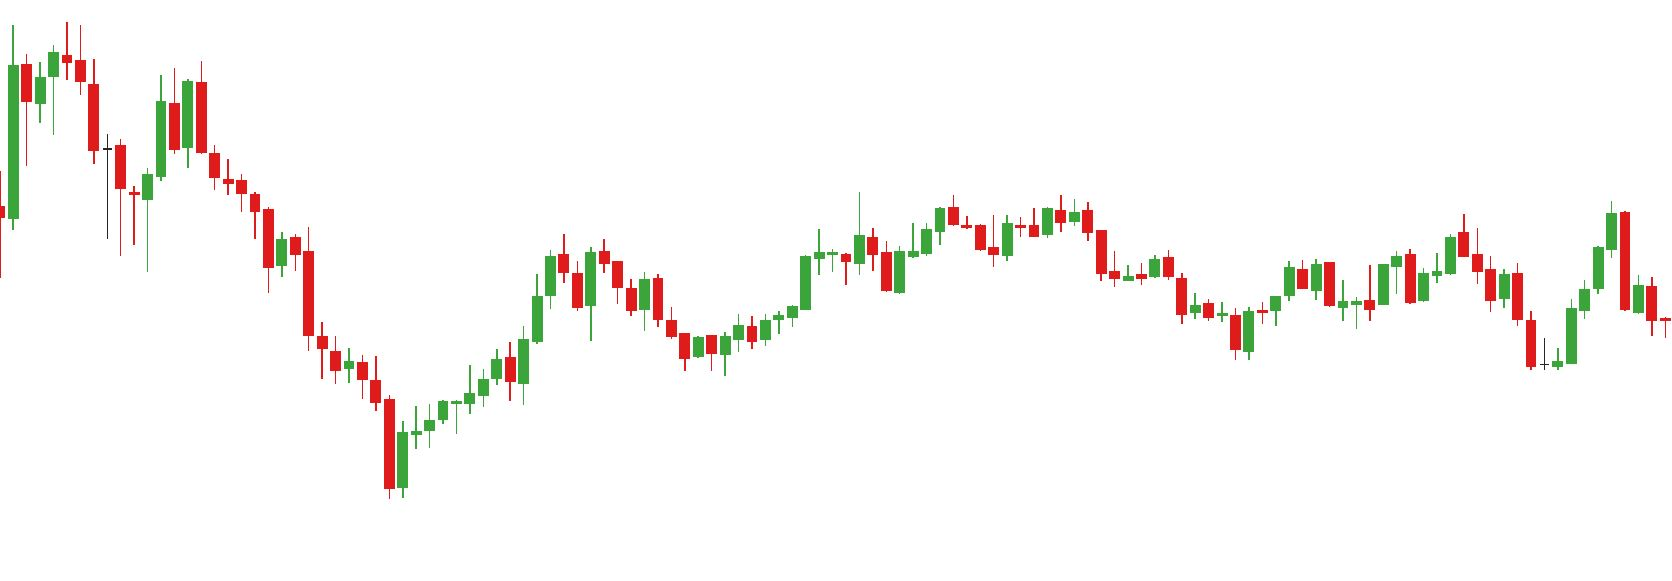sell: (1454, 201, 1631, 321)
